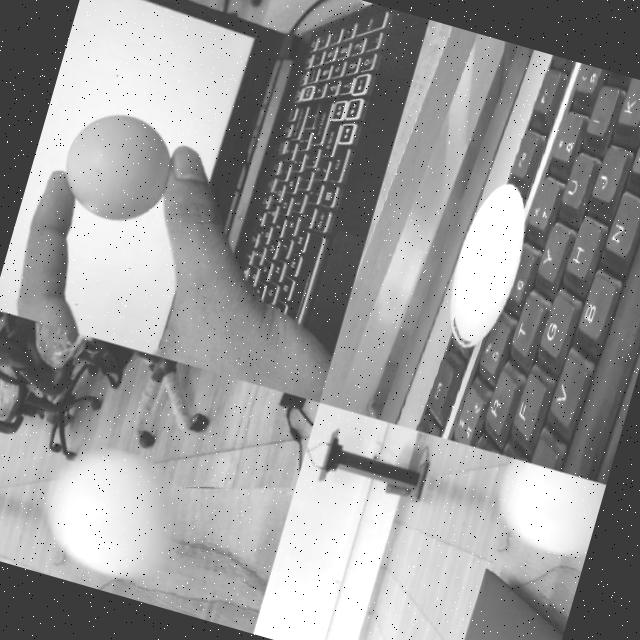ping-pong-ball: (33, 436, 196, 592), (435, 178, 541, 354), (52, 103, 183, 232), (490, 457, 606, 560)
